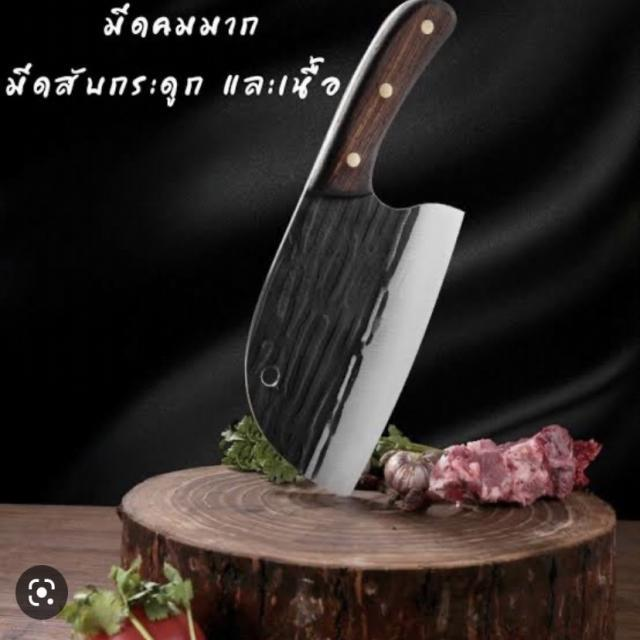Knife: (220, 0, 486, 503)
